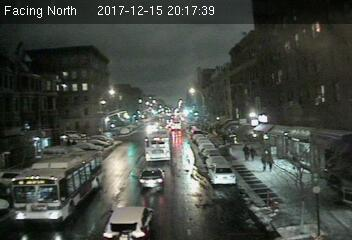bus: (9, 150, 105, 227), (144, 131, 170, 159)
car: (103, 205, 153, 240), (137, 168, 166, 193), (209, 163, 236, 183)
